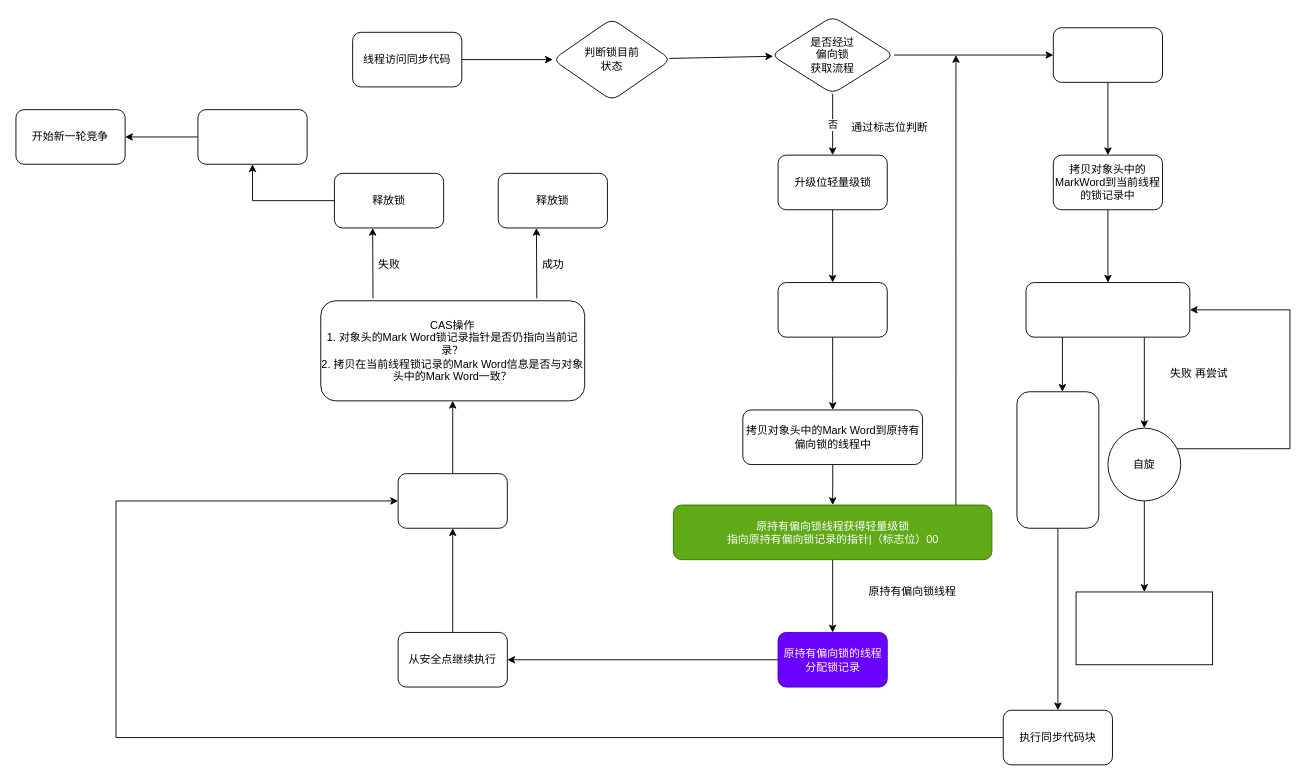
This 1313x781 diagram has some shape labels left out. The shapes that lost their labels are listed below. From the top down, each one's centre as x and y in pixels, then its label:
pixel 1107 54: 当前线程的栈中分配记录
pixel 252 136: 唤起等待线程
pixel 832 309: 原持有偏向锁的线程中分配锁记录
pixel 1107 309: CAS操作，将对象头的MarkWord中锁记录指向当前线程
pixel 1057 459: 获取轻量级锁 指向当前线程的记录|标志位00
pixel 452 500: 轻量级锁解锁
pixel 1144 628: 升级为重量级锁 指向重量级锁的指针 | （标志位）10
